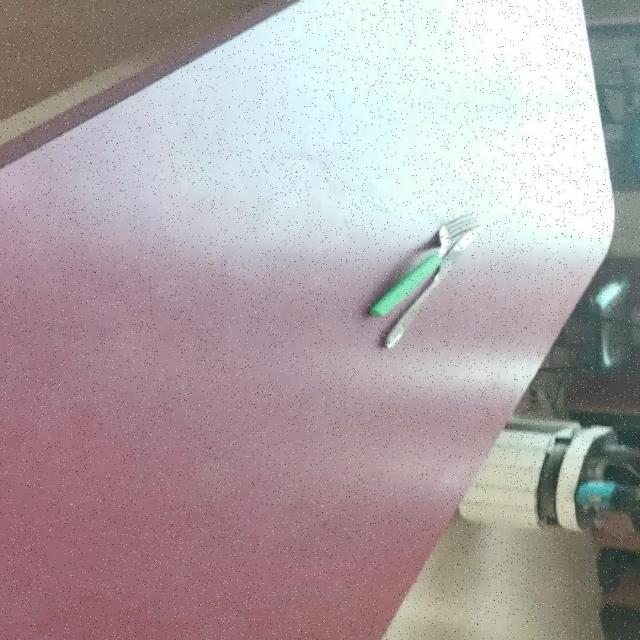Fork: (379, 212, 481, 348), (366, 212, 479, 318)
Knife: (367, 211, 481, 348)
